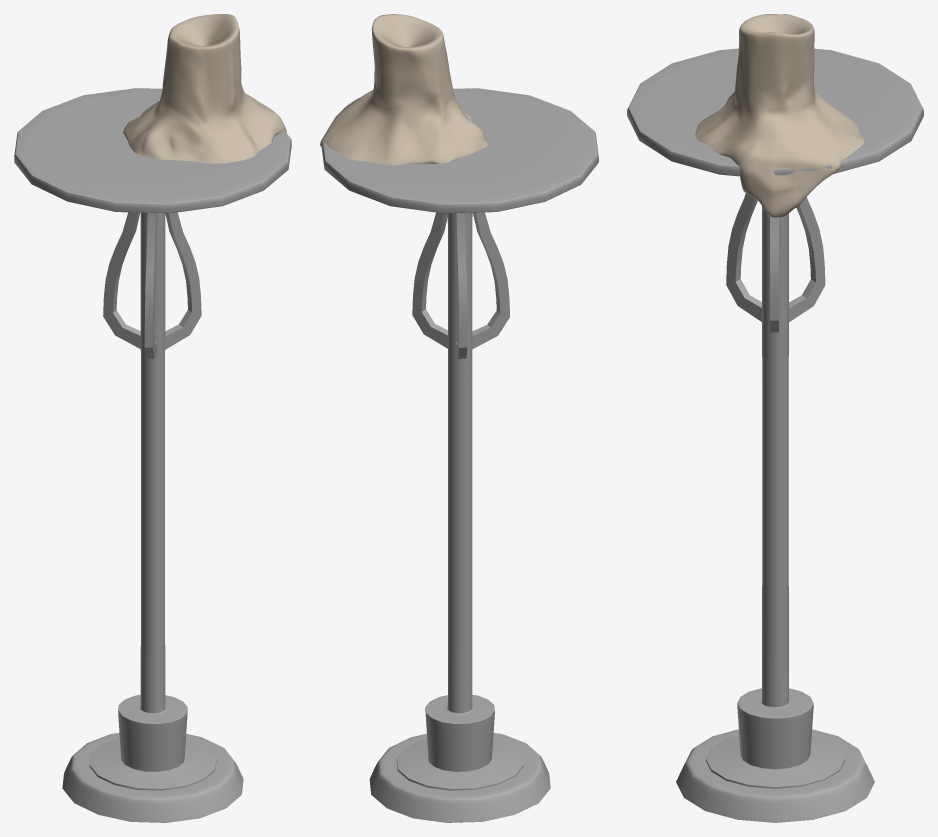
The model's file is bougie1.fbx.
3 renders of one model, left to right at view 1: azimuth 30°, elevation 25°; view 2: azimuth 150°, elevation 25°; view 3: azimuth 270°, elevation 25°, orthographic. The views are drawn at different scales.
Parts seen in each view (by area): view 1: pCylinder1, bougie2, pCube4; view 2: pCylinder1, bougie2, pCube4; view 3: pCylinder1, bougie2, pCube4.
Part boxes in pixels (<box>): pCylinder1: <box>14,88,291,822</box>; bougie2: <box>123,14,286,163</box>; pCube4: <box>103,212,201,358</box>; pCylinder1: <box>321,88,598,822</box>; bougie2: <box>320,14,487,165</box>; pCube4: <box>412,212,509,358</box>; pCylinder1: <box>627,48,923,822</box>; bougie2: <box>695,14,864,217</box>; pCube4: <box>726,193,825,332</box>.
Size of the model in its own units: 1.7 by 4.9 by 1.67.
